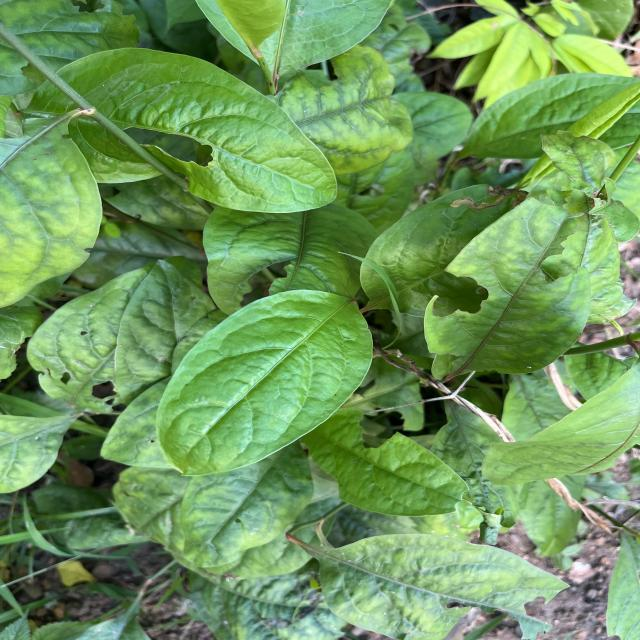Plumbago indica: (30, 44, 344, 215), (154, 288, 378, 480)
